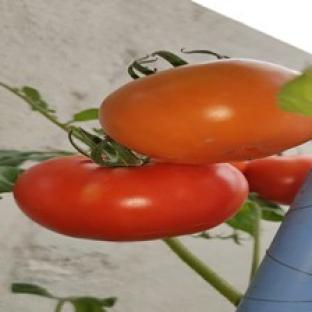Tomato: (99, 59, 311, 164), (14, 156, 247, 240), (244, 155, 311, 204), (230, 162, 247, 172)
